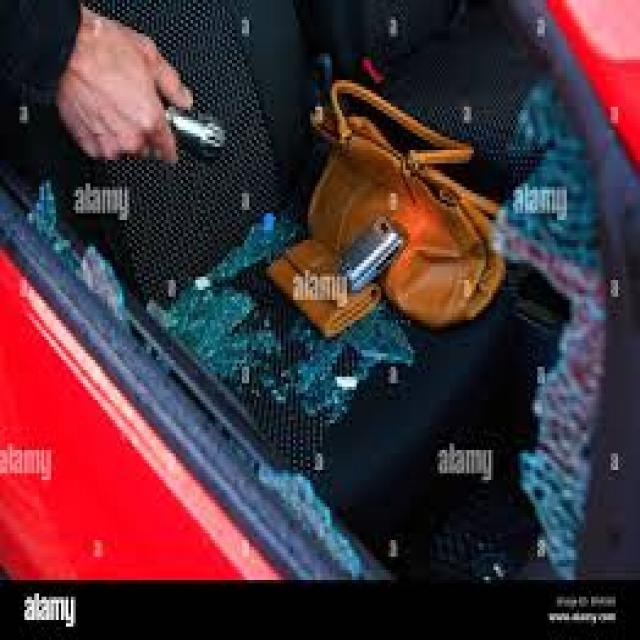damaged-window: (1, 0, 626, 582)
